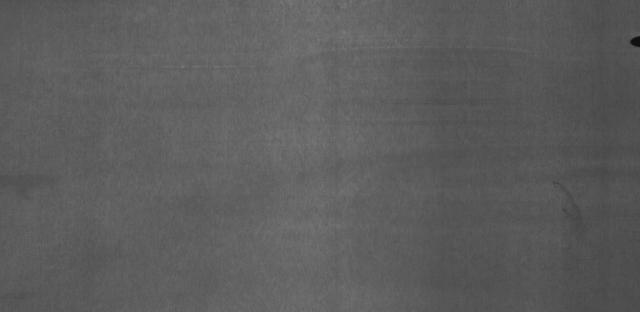punching_hole: (628, 33, 640, 47)
